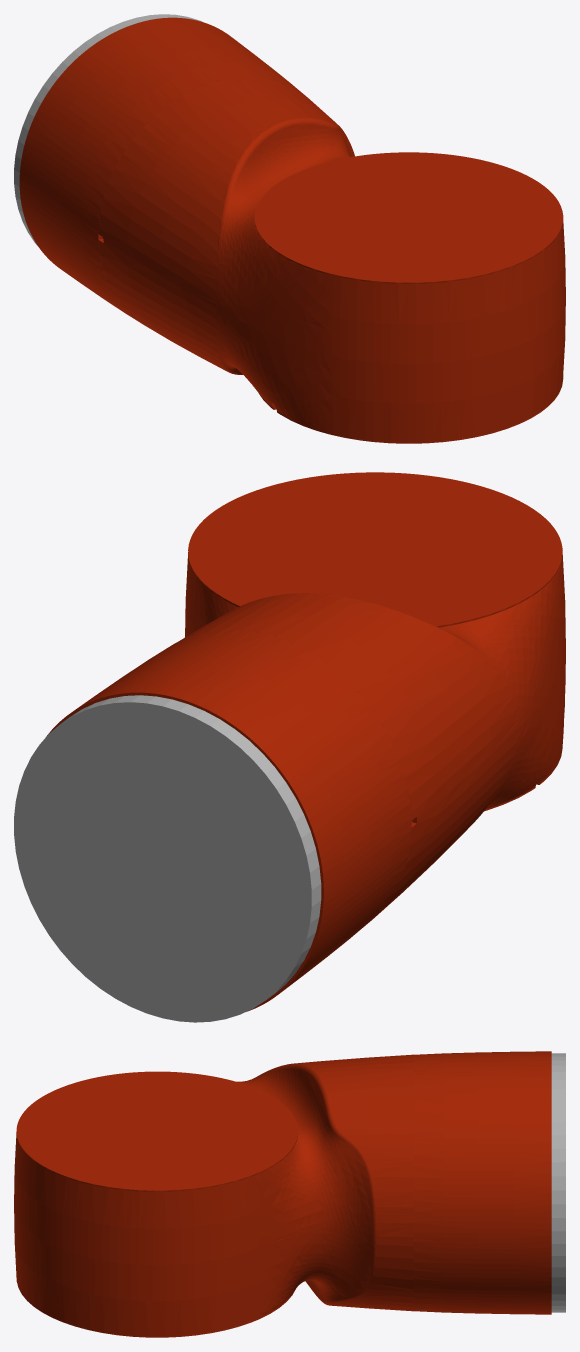
The picture shows the model from 3 angles, top to bottom: view 1: azimuth 30°, elevation 25°; view 2: azimuth 150°, elevation 25°; view 3: azimuth 270°, elevation 25°; orthographic projection. The views are drawn at different scales.
Parts seen in each view (by area): view 1: Link3; view 2: Link3; view 3: Link3.
Boxes of the visible parts, x1=… form: Link3: x1=14, y1=14, x2=565, y2=443; Link3: x1=14, y1=472, x2=565, y2=1022; Link3: x1=14, y1=1051, x2=565, y2=1337.
Size of the model in its own units: 0.1146 by 0.0925 by 0.1939.
